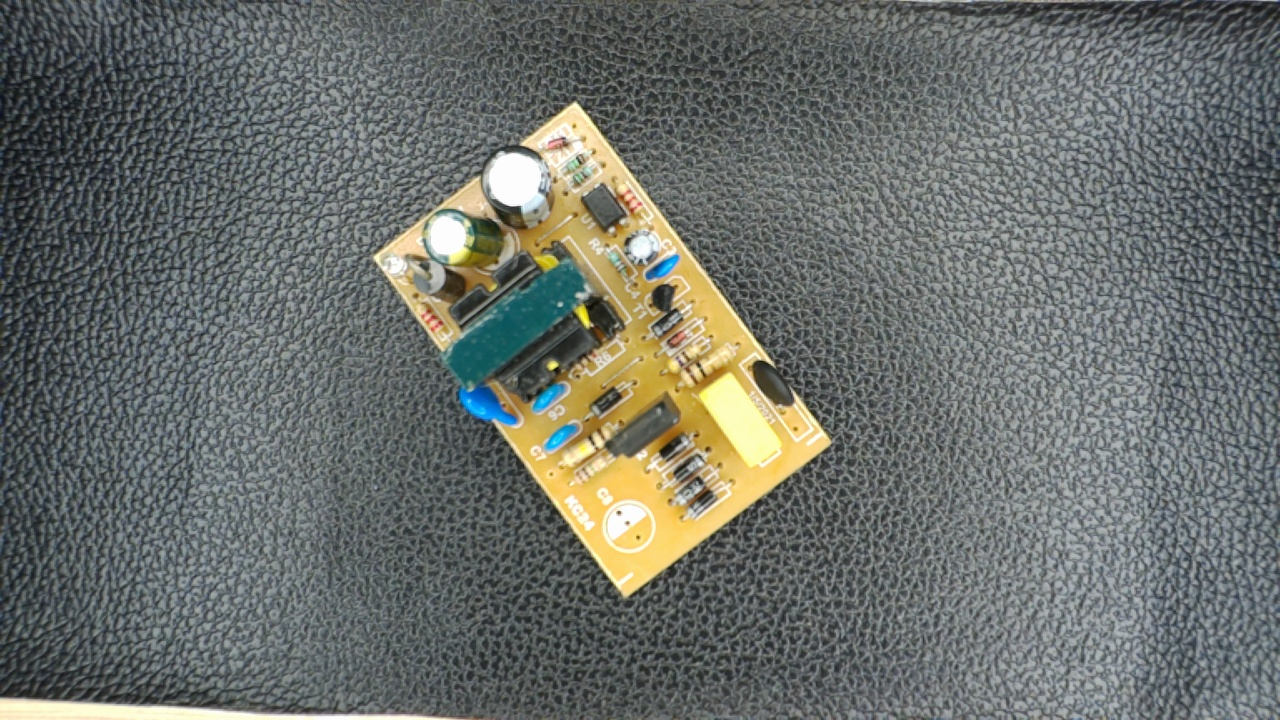fuse: (744, 356, 800, 416)
mov: (455, 380, 525, 431)
optocoupler: (576, 182, 629, 239)
